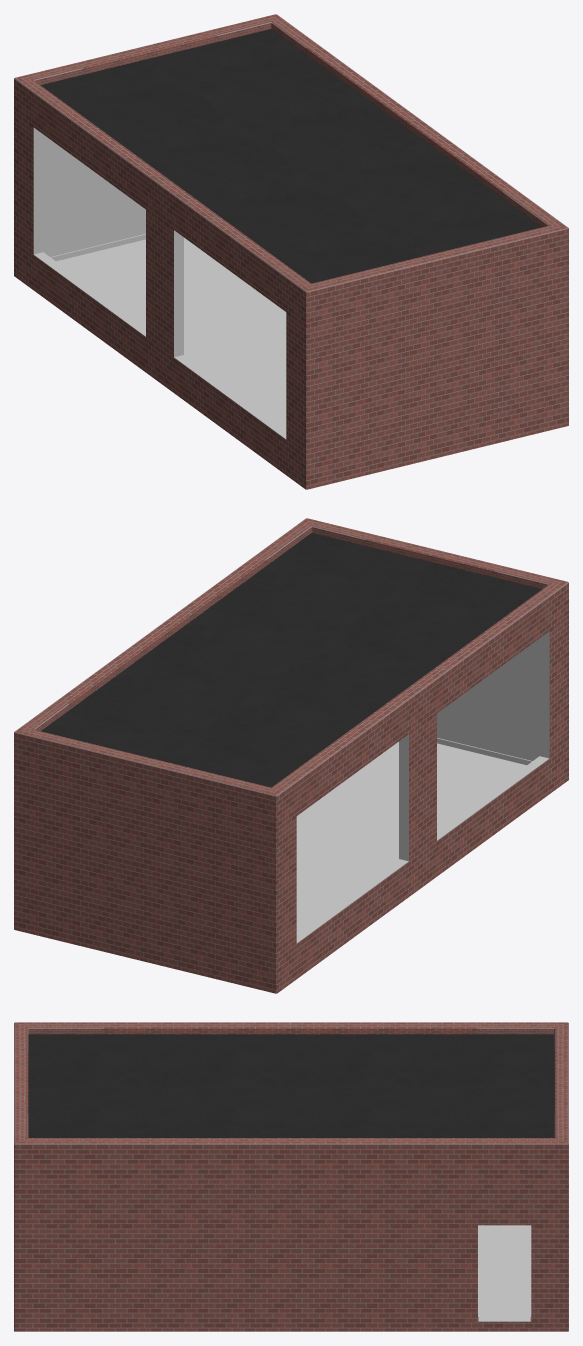
The model's file is building.fbx.
3 views of the same model, one above another, from view 1: azimuth 30°, elevation 25°; view 2: azimuth 150°, elevation 25°; view 3: azimuth 270°, elevation 25° (orthographic). The views are drawn at different scales.
Visible parts, largest first — view 1: building; view 2: building; view 3: building.
Boxes of the visible parts, x1=… form: building: x1=14, y1=14, x2=568, y2=489; building: x1=14, y1=518, x2=568, y2=993; building: x1=14, y1=1022, x2=568, y2=1331.
Size of the model in its own units: 541 by 389 by 1041.
